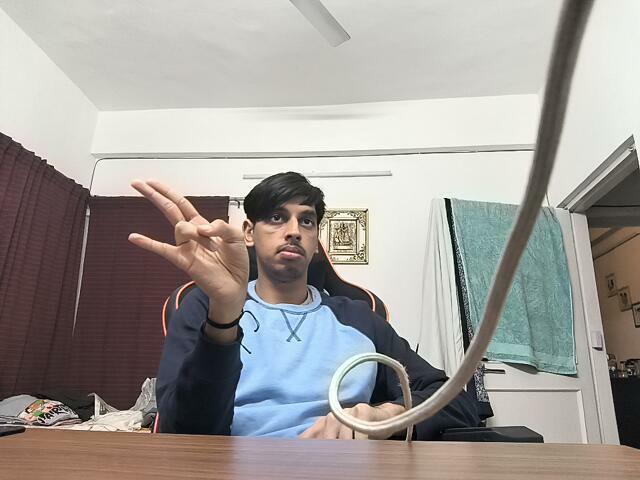BACKWARD: (118, 172, 259, 320)
